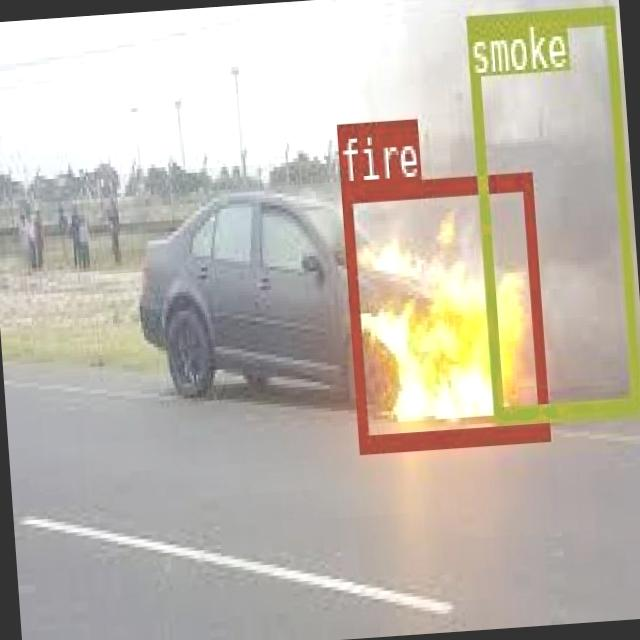fire: (339, 172, 548, 450)
smoke: (465, 2, 640, 420)
